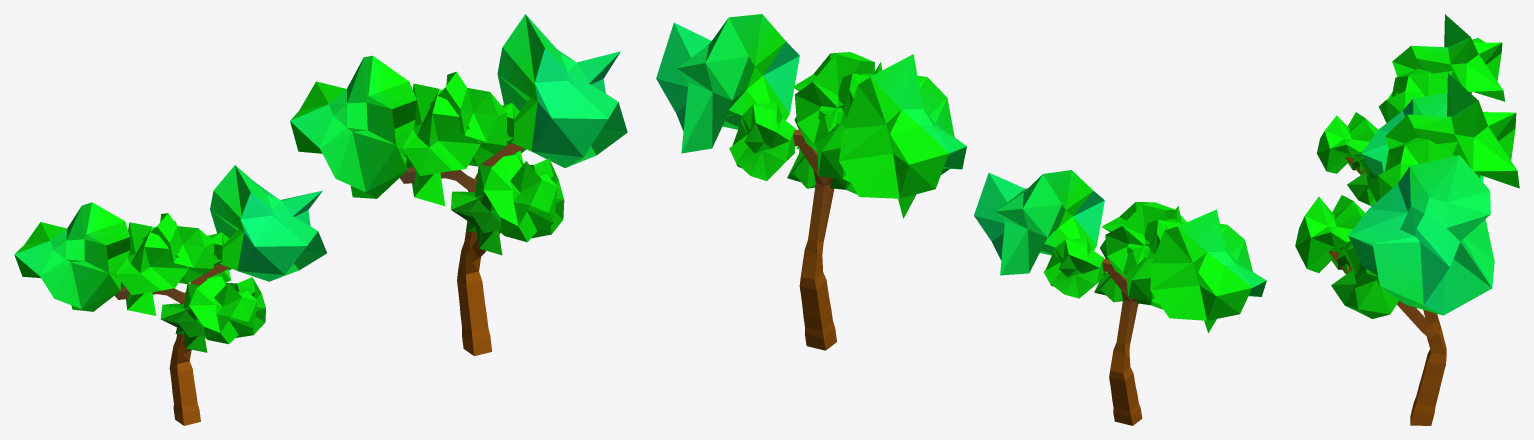
The model's file is SM_Env_Trees_02_03.fbx.
3 renders of one model, left to right at view 1: azimuth 30°, elevation 25°; view 2: azimuth 150°, elevation 25°; view 3: azimuth 270°, elevation 25°, orthographic. The views are drawn at different scales.
Parts seen in each view (by area): view 1: SM_Env_Tree_03, SM_Env_Tree_02; view 2: SM_Env_Tree_03, SM_Env_Tree_02; view 3: SM_Env_Tree_03, SM_Env_Tree_02.
Part boxes in pixels (x1,y1,x2,y2): SM_Env_Tree_03: (290, 14, 627, 355); SM_Env_Tree_02: (14, 165, 326, 425); SM_Env_Tree_03: (656, 14, 966, 350); SM_Env_Tree_02: (974, 170, 1266, 425); SM_Env_Tree_03: (1295, 73, 1519, 425); SM_Env_Tree_02: (1317, 14, 1505, 206).
Size of the model in its own units: 2462 by 1259 by 851.
